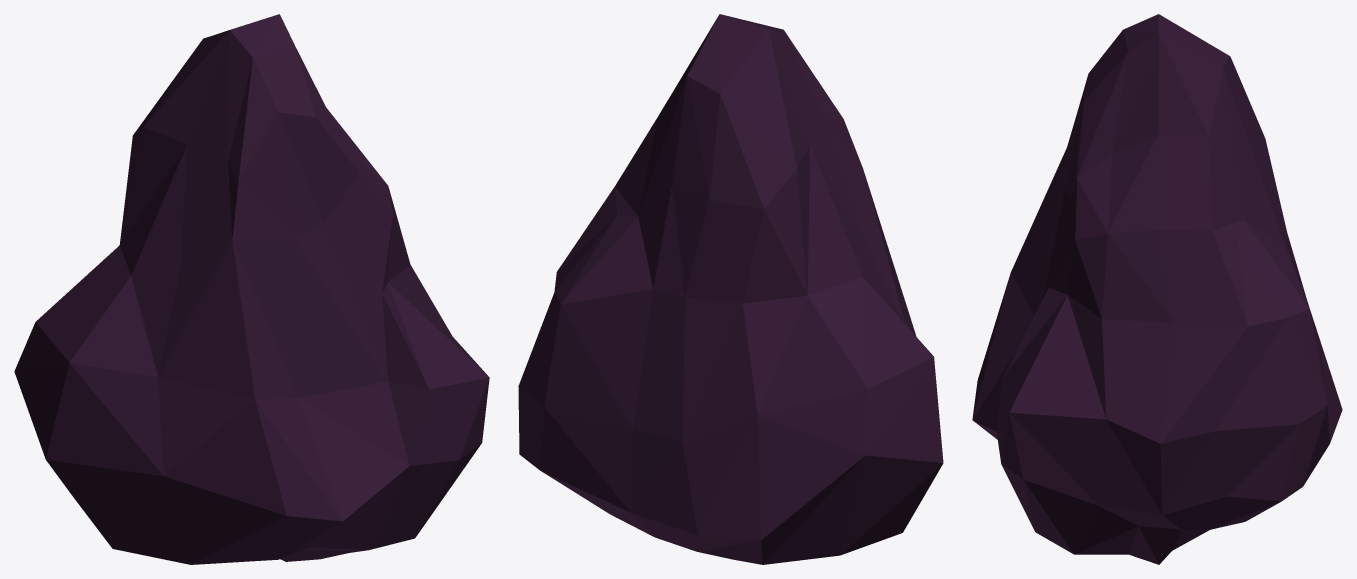
File: PROP_Rock 3.FBX
3 renders of one model, left to right at view 1: azimuth 30°, elevation 25°; view 2: azimuth 150°, elevation 25°; view 3: azimuth 270°, elevation 25°, orthographic. The views are drawn at different scales.
Parts seen in each view (by area): view 1: rock3; view 2: rock3; view 3: rock3.
Boxes of the visible parts, x1,y1,x2,y2 form: rock3: (14, 14, 489, 564); rock3: (518, 14, 943, 564); rock3: (972, 14, 1342, 564).
Size of the model in its own units: 2.53 by 3.3 by 2.2.
